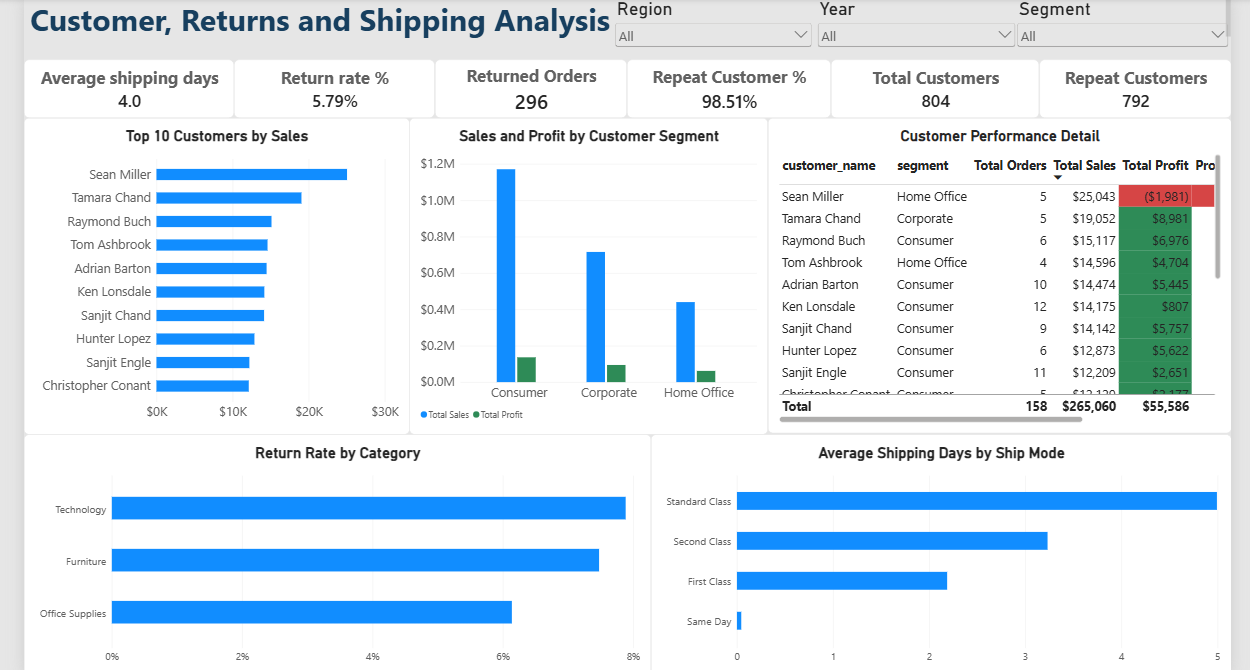

The page's visual inventory and layout, read from the dashboard file:
{"tool":"powerbi","page":{"name":"Customers & Returns","canvas":[1920,1080],"ordinal":2},"visuals":[{"type":"textbox","box":[10,0,1910,62.5],"z":0},{"type":"slicer","fields":{"Values":["DimDate.Year"]},"box":[1257.4,0,324.5,97.8],"z":1000},{"type":"slicer","fields":{"Values":["DimGeography.region"]},"box":[935.3,0,322.1,97.8],"z":2000},{"type":"slicer","fields":{"Values":["DimCustomer.segment"]},"box":[1574.7,0,346,97.8],"z":3000},{"type":"cardVisual","fields":{"Data":["FactSales.Average shipping days"]},"box":[0,97.8,334,93.1],"z":4000},{"type":"cardVisual","fields":{"Data":["FactSales.Repeat Customer %"]},"box":[959.1,97.8,324.5,93.1],"z":5000},{"type":"cardVisual","fields":{"Data":["FactSales.Repeat Customers"]},"box":[1615.3,97.8,305.4,93.1],"z":6000},{"type":"cardVisual","fields":{"Data":["FactSales.Return rate %"]},"box":[334,97.8,319.7,93.1],"z":7000},{"type":"cardVisual","fields":{"Data":["FactSales.Returned Orders"]},"box":[653.7,97.8,305.4,93.1],"z":8000},{"type":"cardVisual","fields":{"Data":["FactSales.Total Customers"]},"box":[1283.6,97.8,331.6,93.1],"z":9000},{"type":"clusteredBarChart","title":"Top 10 Customers by Sales","fields":{"Category":["DimCustomer.customer_name"],"Y":["FactSales.Total Sales"]},"box":[0,190.9,613.2,503.4],"z":10000},{"type":"clusteredColumnChart","title":"Sales and Profit by Customer Segment","fields":{"Category":["DimCustomer.segment"],"Y":["FactSales.Total Sales","FactSales.Total Profit"]},"box":[613.2,190.9,570.2,503.4],"z":11000},{"type":"clusteredBarChart","title":"Return Rate by Category","fields":{"Category":["DimProduct.category"],"Y":["FactSales.Return rate %"]},"box":[0,694.3,997.3,386.5],"z":12000},{"type":"clusteredBarChart","title":"Average Shipping Days by Ship Mode","fields":{"Category":["FactSales.ship_mode"],"Y":["FactSales.Average shipping days"]},"box":[997.3,694.3,923.3,386.5],"z":13000},{"type":"tableEx","title":"Customer Performance Detail","fields":{"Values":["DimCustomer.customer_name","DimCustomer.segment","FactSales.Total Orders","FactSales.Total Sales","FactSales.Total Profit","FactSales.Profit Margin %","FactSales.Latest Order Date"]},"box":[1183.4,190.9,737.2,501],"z":14000}]}

Visuals, with their boxes on the page's 1920x1080 design canvas (x1, y1, x2, y2). These are canvas units, not pixel positions in the 1250x670 screenshot, which may show the page scaled, cropped or inside an application window:
textbox: (10, 0, 1920, 62)
slicer - DimDate.Year: (1257, 0, 1582, 98)
slicer - DimGeography.region: (935, 0, 1257, 98)
slicer - DimCustomer.segment: (1575, 0, 1921, 98)
cardVisual - FactSales.Average shipping days: (0, 98, 334, 191)
cardVisual - FactSales.Repeat Customer %: (959, 98, 1284, 191)
cardVisual - FactSales.Repeat Customers: (1615, 98, 1921, 191)
cardVisual - FactSales.Return rate %: (334, 98, 654, 191)
cardVisual - FactSales.Returned Orders: (654, 98, 959, 191)
cardVisual - FactSales.Total Customers: (1284, 98, 1615, 191)
"Top 10 Customers by Sales" clusteredBarChart: (0, 191, 613, 694)
"Sales and Profit by Customer Segment" clusteredColumnChart: (613, 191, 1183, 694)
"Return Rate by Category" clusteredBarChart: (0, 694, 997, 1081)
"Average Shipping Days by Ship Mode" clusteredBarChart: (997, 694, 1921, 1081)
"Customer Performance Detail" tableEx: (1183, 191, 1921, 692)
